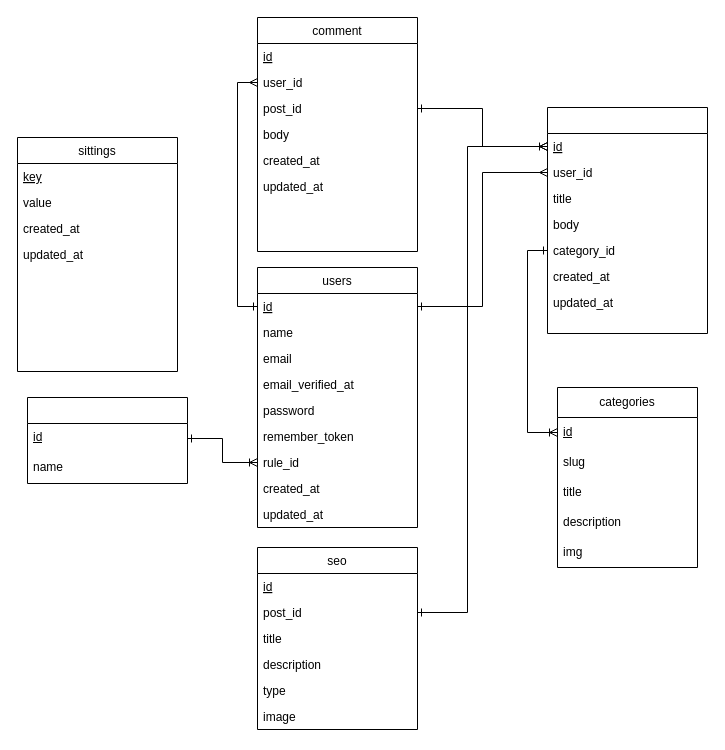
This 725x750 diagram has some shape labels left out. The box of each missing label's shape, as (x1, y1, x2, y2) in pixels:
posts: (546, 106, 708, 334)
rules: (26, 396, 188, 484)
